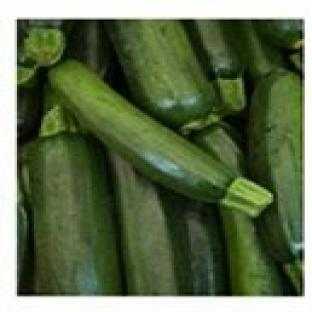Zucchini: (49, 61, 273, 216), (30, 108, 123, 294), (109, 153, 191, 296), (109, 20, 217, 128), (247, 71, 302, 263), (187, 20, 246, 116), (221, 209, 282, 296), (177, 197, 229, 296), (228, 20, 285, 81), (66, 20, 113, 76), (17, 182, 33, 294), (17, 84, 43, 142), (257, 20, 304, 50)
